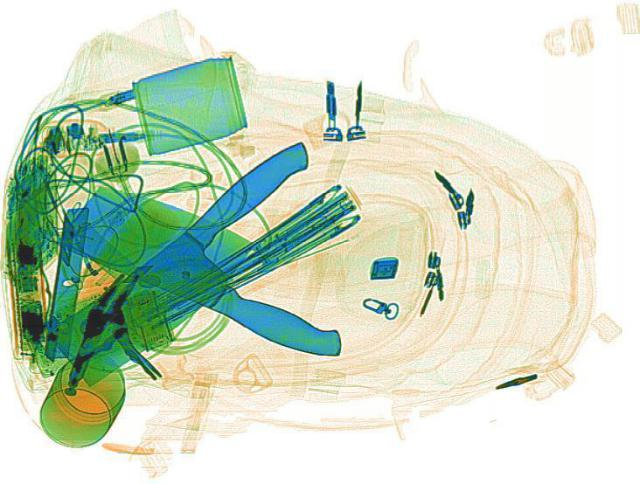Knife: (11, 136, 372, 384), (46, 173, 388, 364)
